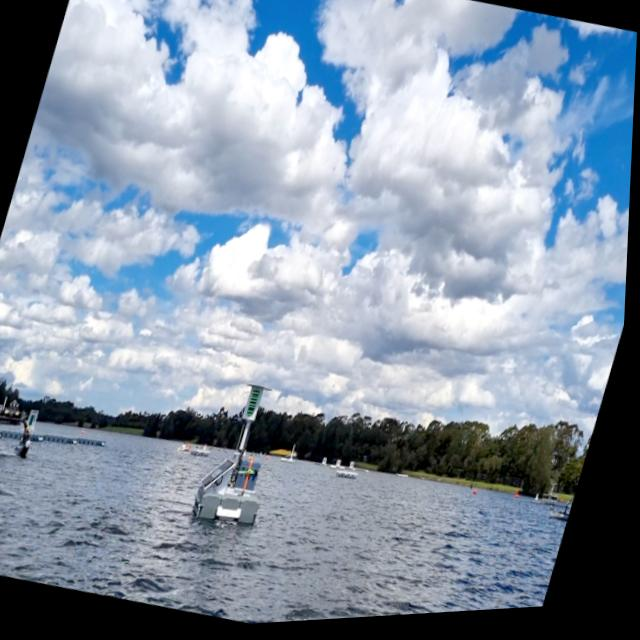led: (248, 389, 266, 421)
